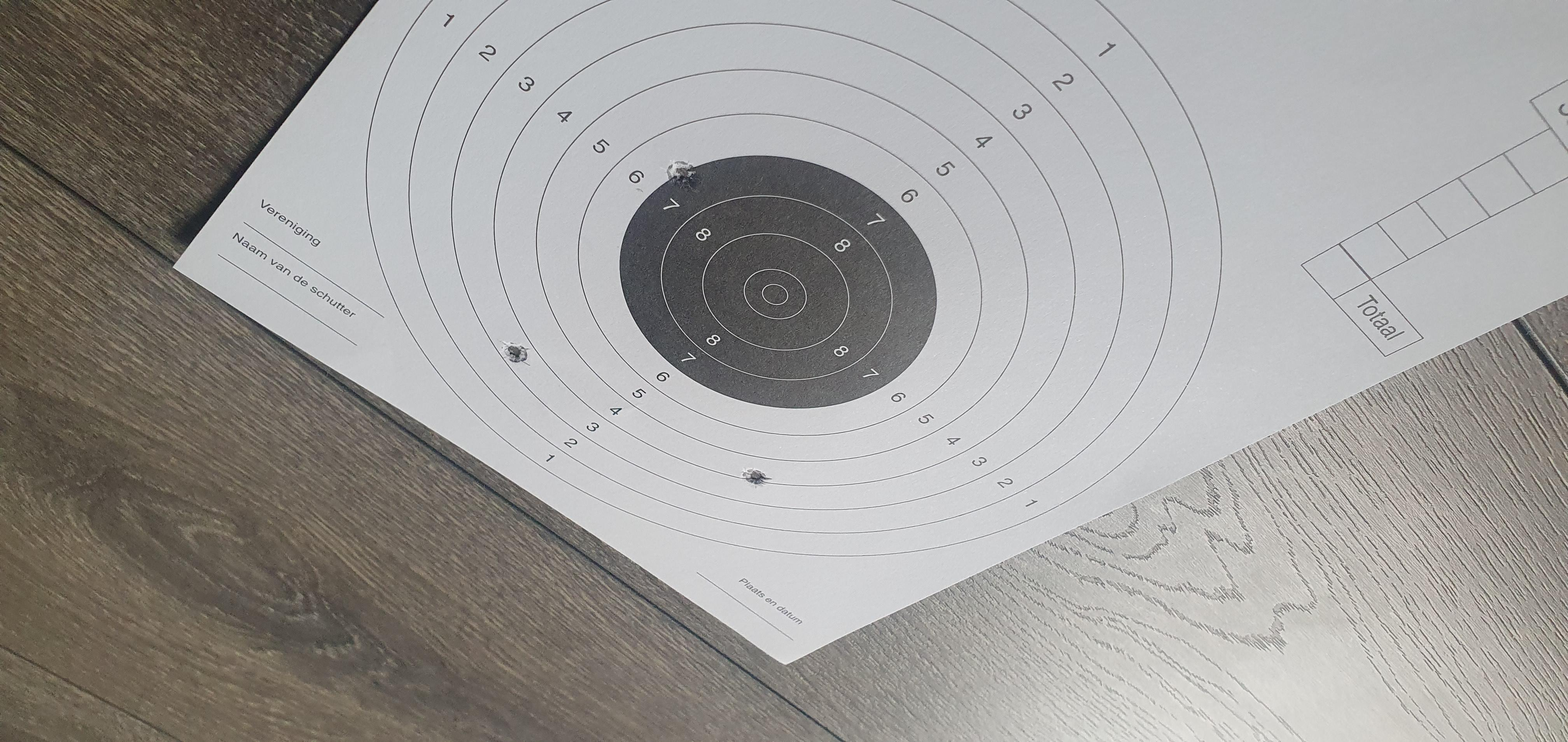hole: (867, 549, 905, 583), (1038, 375, 1069, 403), (797, 256, 831, 275)
